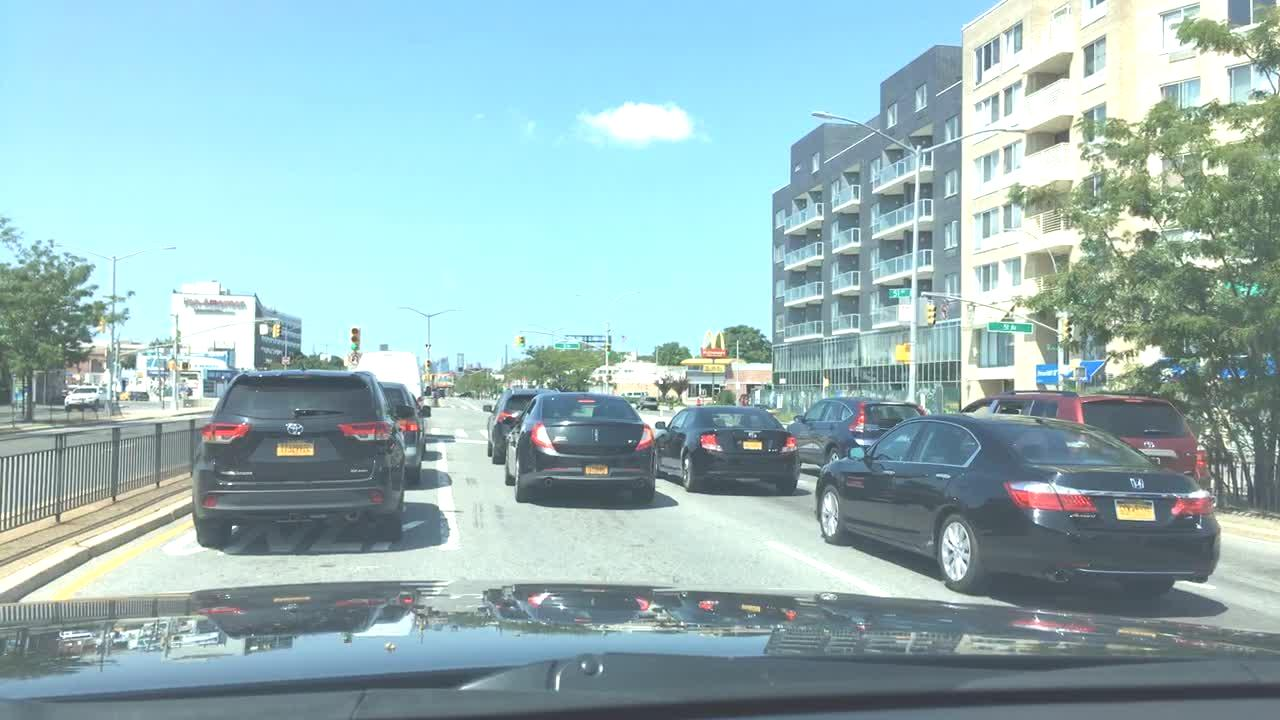Honda: (1123, 467, 1153, 498)
Toyota: (277, 418, 314, 439)
lincoln: (590, 422, 604, 449)
